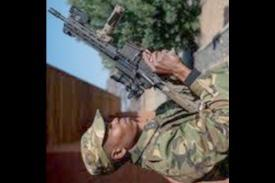gun: (46, 3, 203, 112)
